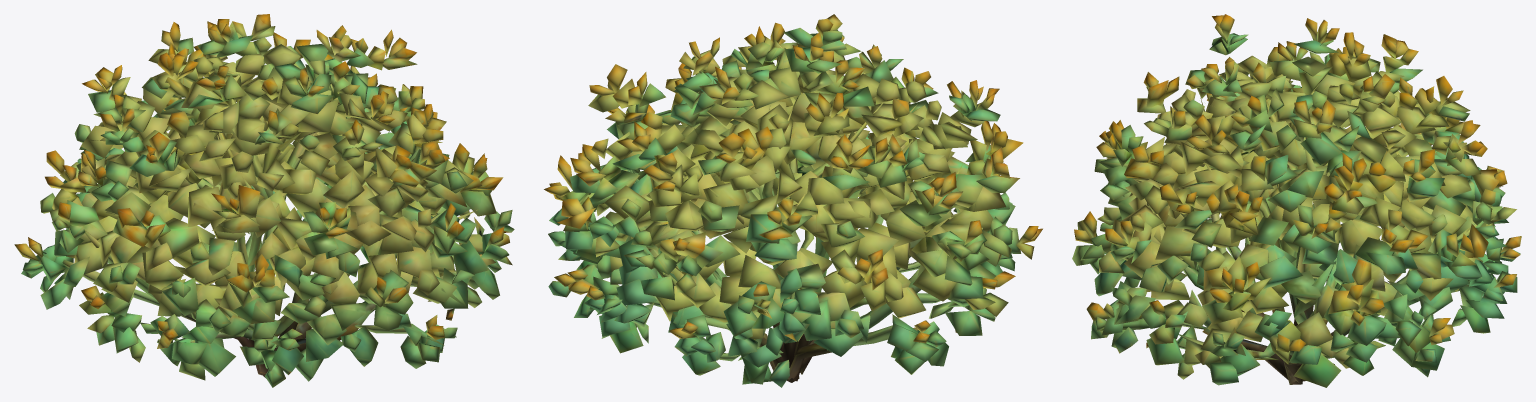
The model's file is veg-shrub.glb.
3 views of the same model, side by side, from view 1: azimuth 30°, elevation 25°; view 2: azimuth 150°, elevation 25°; view 3: azimuth 270°, elevation 25° (orthographic). The views are drawn at different scales.
Parts seen in each view (by area): view 1: Mesh_0; view 2: Mesh_0; view 3: Mesh_0.
Part boxes in pixels (box(x1,y1,x2,y2)): Mesh_0: box(14, 14, 514, 387); Mesh_0: box(544, 14, 1042, 387); Mesh_0: box(1072, 14, 1521, 387).
Bounding box in the file's own units: 1 × 0.8359 × 0.9824.
1 material, 1 textured.
